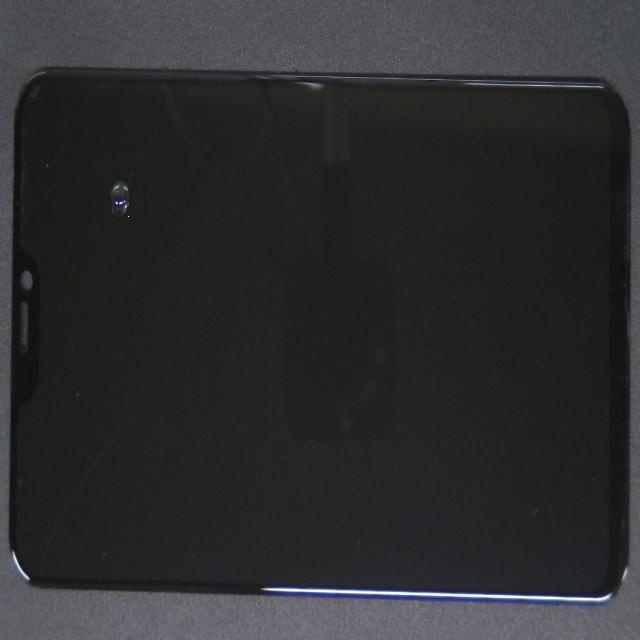oil: (65, 111, 196, 332)
